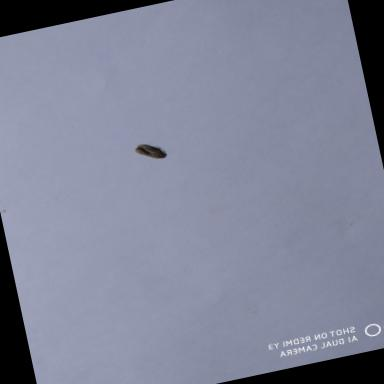pbw: (132, 136, 170, 165)
